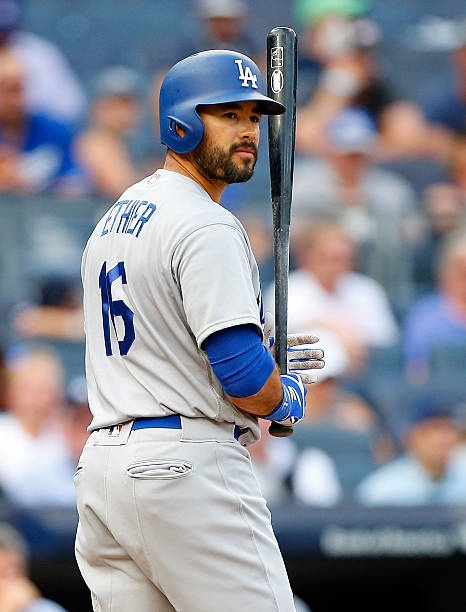bita: (266, 29, 304, 437)
